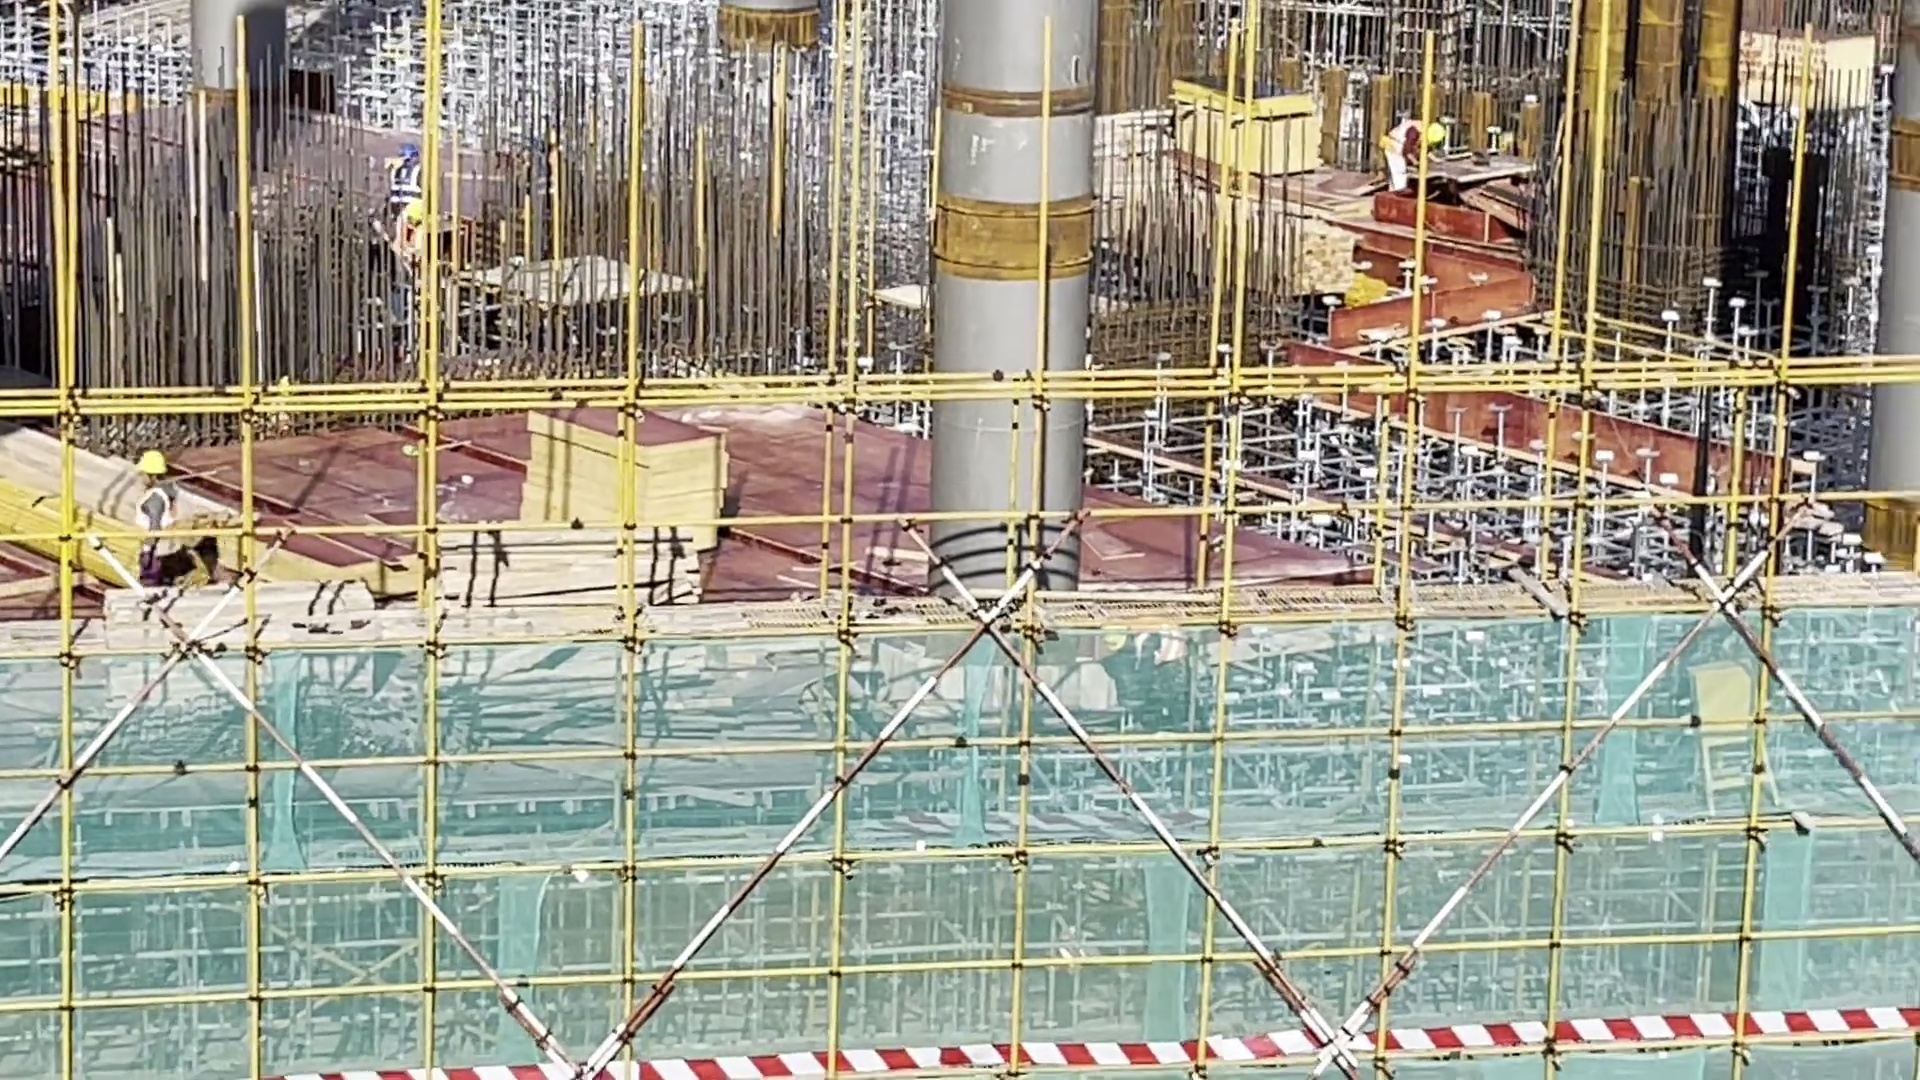ebox: (1672, 653, 1781, 805)
helmet: (131, 450, 171, 478), (1423, 115, 1452, 147), (400, 197, 421, 228), (392, 140, 419, 161)
person: (120, 450, 194, 594), (1375, 105, 1441, 194), (386, 193, 428, 285), (385, 132, 417, 193)
vest: (134, 492, 176, 558), (1380, 118, 1426, 155)
